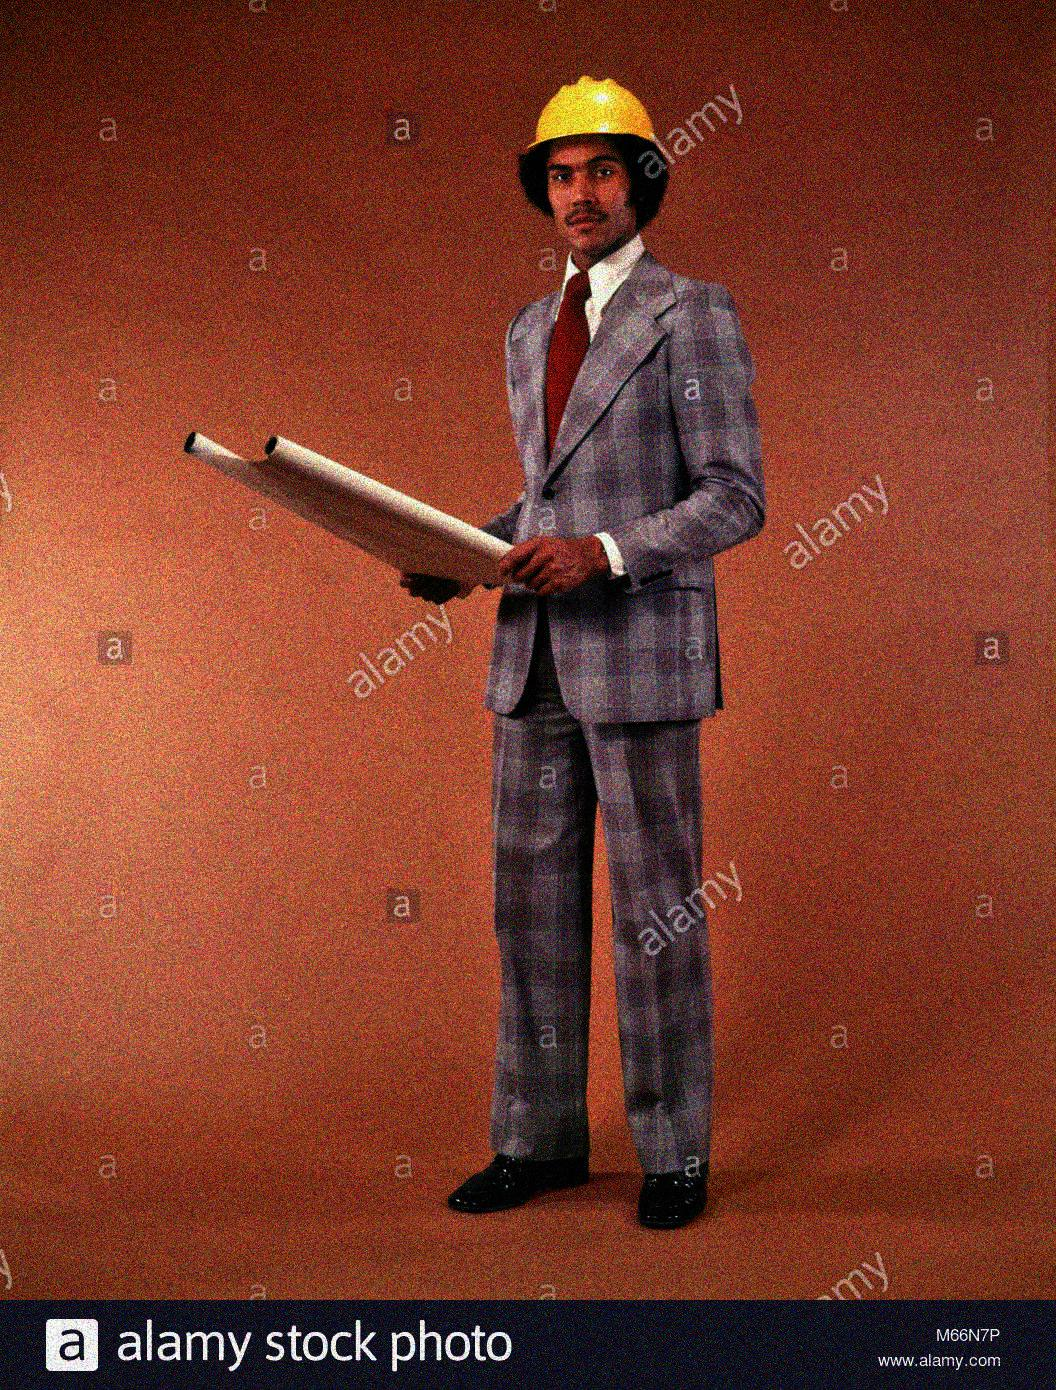helmet: (509, 65, 674, 252)
